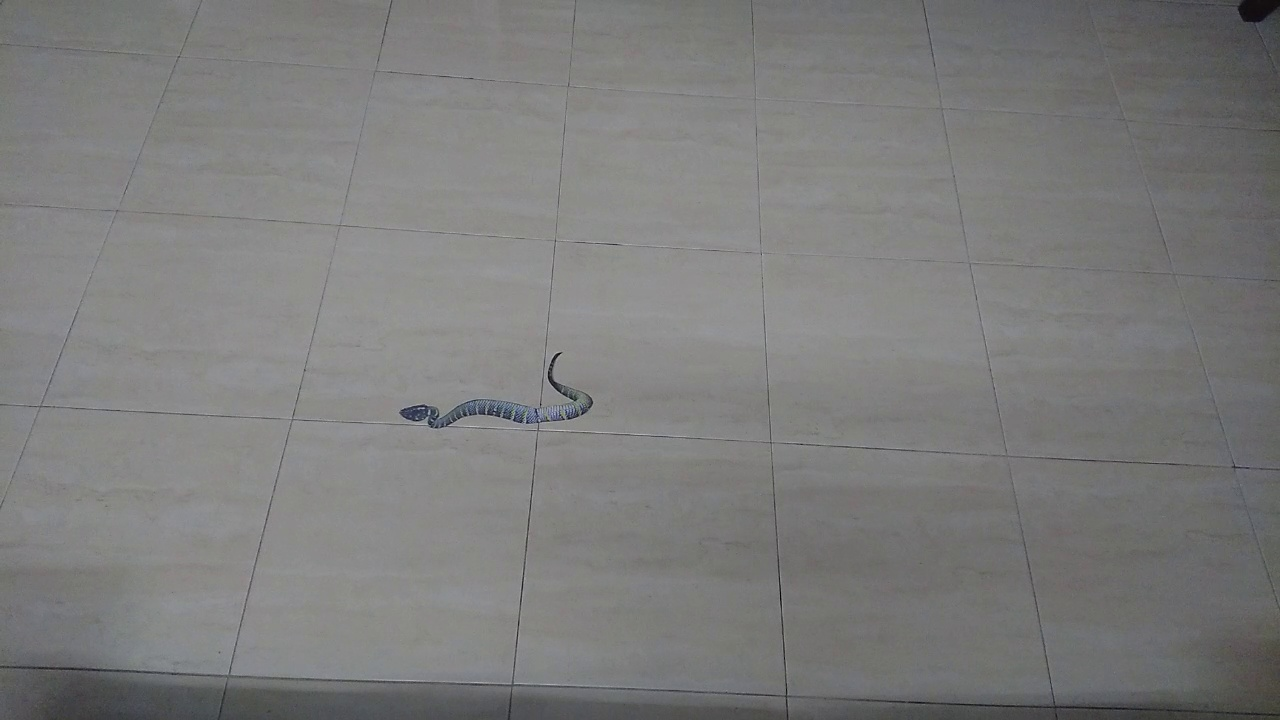snake: (379, 336, 608, 444)
